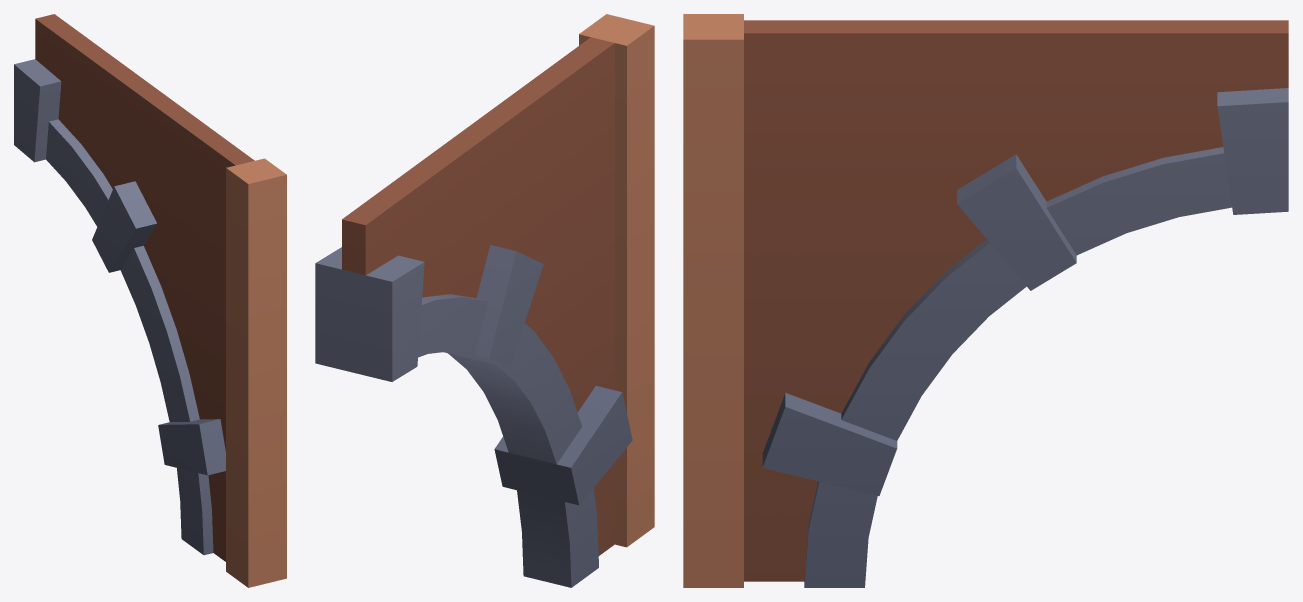
File: wall-wood-arch-top-detail.glb
The picture shows the model from 3 angles, left to right: view 1: azimuth 30°, elevation 25°; view 2: azimuth 150°, elevation 25°; view 3: azimuth 270°, elevation 25°; orthographic projection. The views are drawn at different scales.
Parts seen in each view (by area): view 1: wall-wood-arch-top-detail; view 2: wall-wood-arch-top-detail; view 3: wall-wood-arch-top-detail.
Boxes of the visible parts, x1,y1,x2,y2 form: wall-wood-arch-top-detail: (14,14,286,587); wall-wood-arch-top-detail: (315,14,654,587); wall-wood-arch-top-detail: (683,14,1288,587).
Size of the model in its own units: 0.16 by 1 by 1.
1 material, 1 textured.
